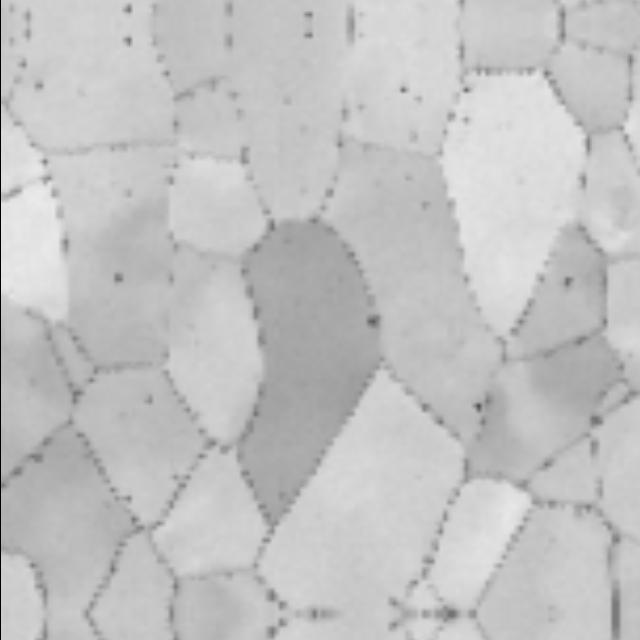good_void: (98, 264, 127, 294), (115, 29, 137, 51), (115, 0, 137, 22), (392, 80, 413, 101), (467, 400, 487, 419), (363, 313, 384, 331), (557, 275, 577, 293), (30, 76, 48, 93), (300, 26, 319, 42), (300, 9, 319, 25)
